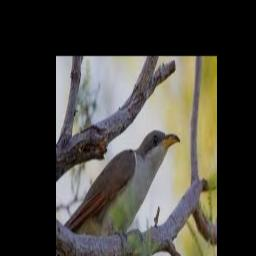Cuckoo: (63, 130, 179, 241)
